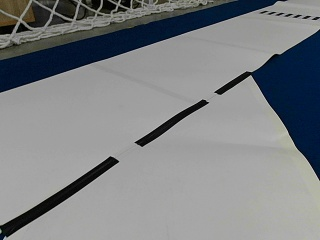crosswalk: (259, 9, 319, 20)
